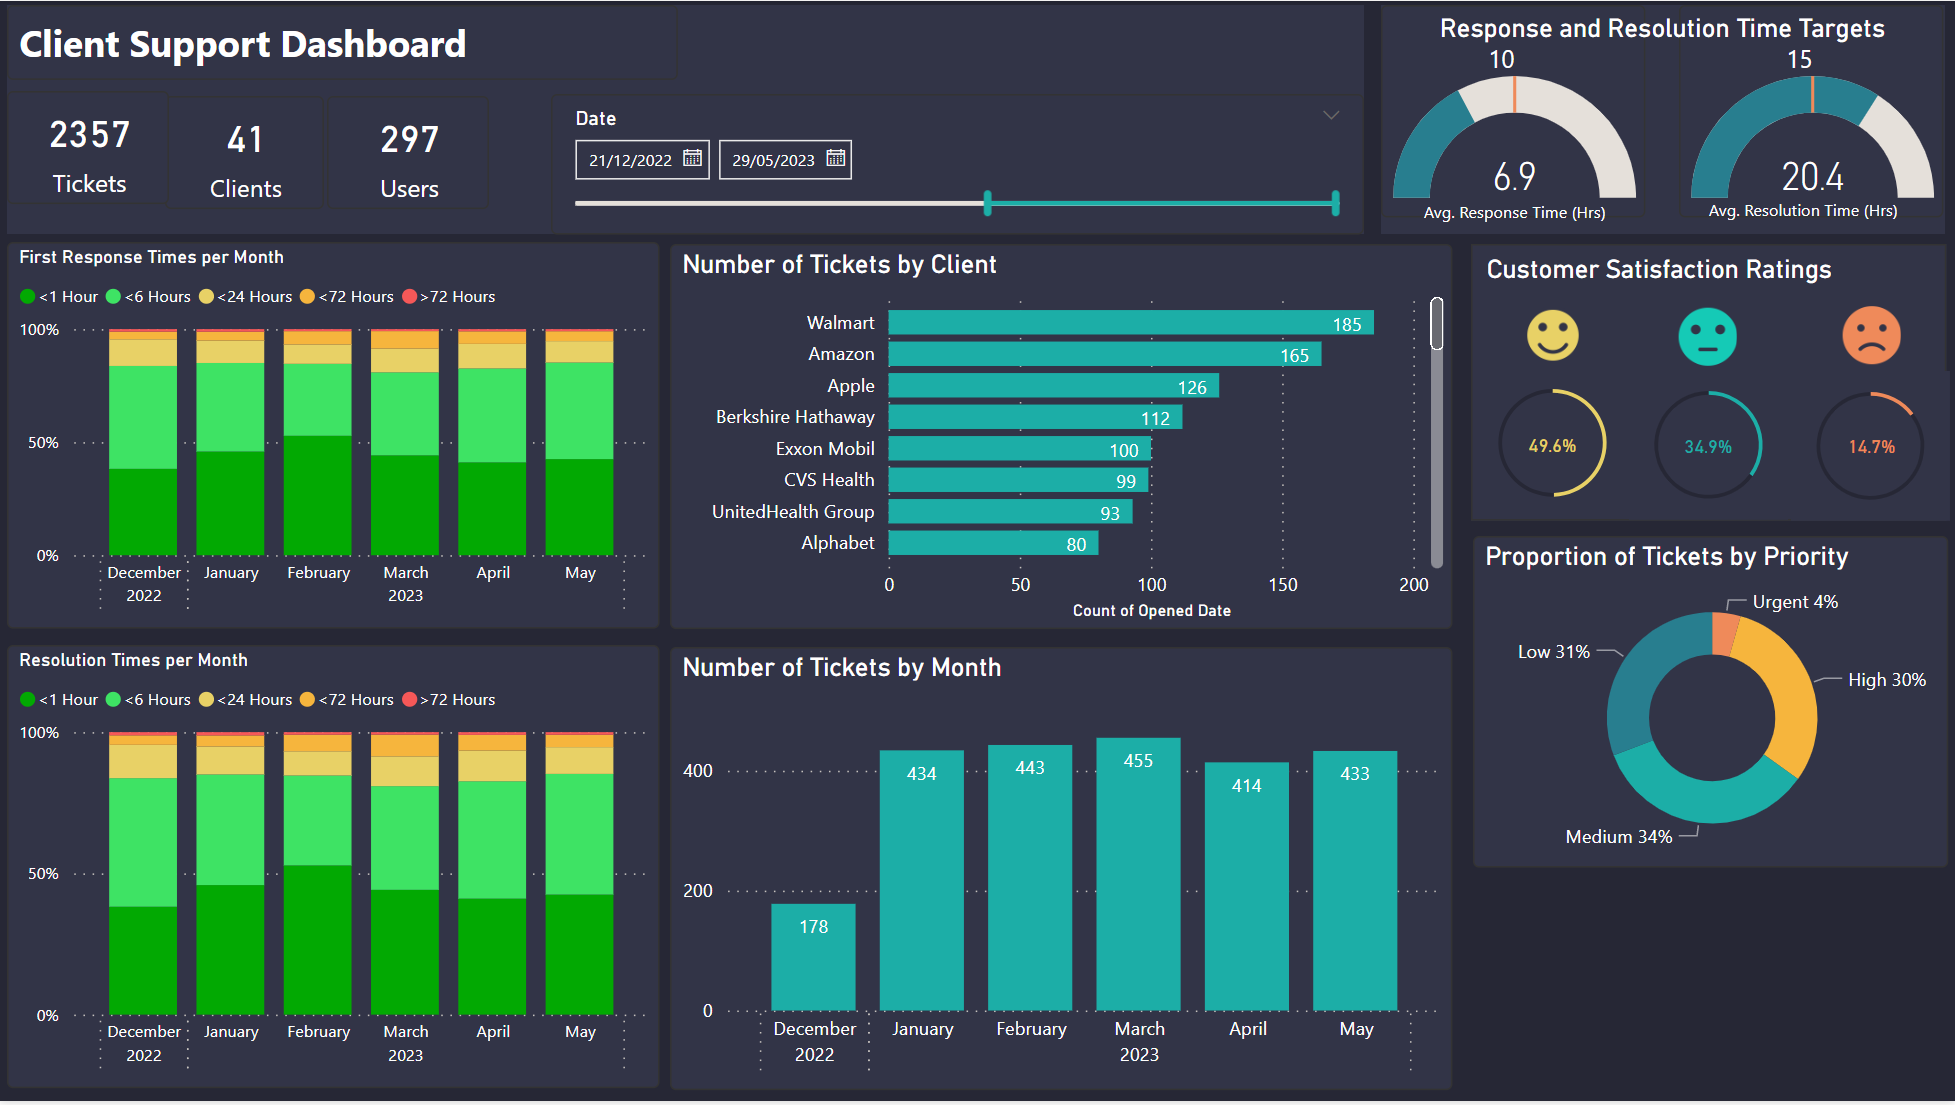

The dashboard page shown, as its layout file describes it:
{"tool":"powerbi","page":{"name":"Support Dashboard","canvas":[1280,720],"ordinal":0},"visuals":[{"type":"gauge","fields":{"Y":["Avg(03_tickets.First Response Time (Hours))"]},"box":[904.3,2.7,172.7,138.6],"z":0,"group":"g2"},{"type":"clusteredBarChart","title":"Number of Tickets by Client","fields":{"Y":["CountNonNull(03_tickets.Opened Date)"],"Category":["02_Users.Company"]},"box":[439.1,159.2,511.8,252.5],"z":0},{"type":"shape","box":[963.3,159.2,310.5,181.4],"z":1000,"group":"g1"},{"type":"donutChart","title":"Proportion of Tickets by Priority","fields":{"Category":["03_tickets.Priority"],"Y":["CountNonNull(03_tickets.Priority)"]},"box":[964.7,349.9,311.5,216.8],"z":1000},{"type":"group","id":"g1","title":"Group 2","box":[963.3,159.2,312.8,181.4],"z":2000},{"type":"gauge","fields":{"Y":["Avg(03_tickets.Resolution Time (Hours))"]},"box":[1099.1,2.7,172.7,138.6],"z":3000,"group":"g2"},{"type":"card","fields":{"Values":["Count(03_tickets.User ID)"]},"box":[214.9,62.1,105.7,74.1],"z":3000,"group":"g3"},{"type":"hundredPercentStackedColumnChart","title":"First Response Times per Month","fields":{"Y":["CountNonNull(03_tickets.First Response Category)"],"Category":["03_tickets.Opened Date.Variation.Date Hierarchy.Year","03_tickets.Opened Date.Variation.Date Hierarchy.Month"],"Series":["03_tickets.First Response Category"]},"box":[5.5,157.8,426.8,253],"z":3000},{"type":"hundredPercentStackedColumnChart","title":"Resolution Times per Month","fields":{"Category":["03_tickets.Opened Date.Variation.Date Hierarchy.Year","03_tickets.Opened Date.Variation.Date Hierarchy.Month"],"Series":["03_tickets.First Response Category"],"Y":["CountNonNull(03_tickets.Resolution Category)"]},"box":[5.5,421.3,426.8,289.5],"z":4000},{"type":"donutChart","fields":{"Y":["03_tickets.Happiness Percentages","03_tickets.OneMinusHappiness"]},"box":[964.7,240.6,103.5,98.1],"z":5000,"group":"g1"},{"type":"clusteredColumnChart","title":"Number of Tickets by Month","fields":{"Y":["CountNonNull(03_tickets.Opened Date)"],"Category":["03_tickets.Opened Date.Variation.Date Hierarchy.Year","03_tickets.Opened Date.Variation.Date Hierarchy.Month"]},"box":[439.1,422.6,511.8,289.5],"z":5000},{"type":"group","id":"g2","title":"Group 1","box":[904.3,2.7,369.1,149.6],"z":6000},{"type":"group","id":"g3","title":"Group 3","box":[5.5,2.7,887.8,149.6],"z":7000},{"type":"textbox","box":[904.3,2.7,368.3,35.7],"z":8000,"group":"g2"},{"type":"slicer","fields":{"Values":["03_tickets.Opened Date"]},"box":[361.4,60.6,532,91.6],"z":8000,"group":"g3"},{"type":"donutChart","fields":{"Y":["03_tickets.Neutral Percentages","03_tickets.OneMinusNeutral"]},"box":[1067,241.4,103.5,98.1],"z":9000,"group":"g1"},{"type":"card","fields":{"Values":["Count(02_Users.Company)"]},"box":[109.2,62.1,104.4,74.1],"z":10000,"group":"g3"},{"type":"donutChart","fields":{"Y":["03_tickets.Unhappy Percentages","03_tickets.OneMinusUnhappy"]},"box":[1172.4,242.2,103.7,97.8],"z":10000,"group":"g1"},{"type":"textbox","box":[5.5,2.7,439.3,48.5],"z":11000,"group":"g3"},{"type":"card","fields":{"Values":["CountNonNull(03_tickets.Opened Date)"]},"box":[5.5,59.3,105.6,74.1],"z":12000,"group":"g3"},{"type":"card","fields":{"Values":["03_tickets.Unhappy Percentages"]},"box":[1203.5,278.6,44,24.5],"z":12000,"group":"g1"},{"type":"card","fields":{"Values":["03_tickets.Neutral Percentages"]},"box":[1096.8,278.6,43.9,24.4],"z":14000,"group":"g1"},{"type":"textbox","box":[968.4,160.3,255.2,35.7],"z":15000,"group":"g1"},{"type":"image","box":[993,193.9,47.6,50.2],"z":16000,"group":"g1"},{"type":"image","box":[1094.2,193.9,47.6,51.6],"z":17000,"group":"g1"},{"type":"image","box":[1201.7,193.7,47.7,50.5],"z":18000,"group":"g1"},{"type":"card","fields":{"Values":["03_tickets.Happiness Percentages"]},"box":[994.6,277.8,43.9,24.4],"z":19000,"group":"g1"},{"type":"textbox","box":[927.3,123,156.6,29.4],"z":19500,"group":"g2"},{"type":"textbox","box":[1113.7,121.6,152.3,30.9],"z":20000,"group":"g2"}]}

Visuals, with their boxes in screenshot pixels (x1, y1, x2, y2), scaled from the page's 1280x720 canvas onto the 1955x1105 screenshot:
gauge - Avg(03_tickets.First Response Time (Hours)): rect(1381, 4, 1645, 217)
"Number of Tickets by Client" clusteredBarChart: rect(671, 244, 1452, 632)
shape: rect(1471, 244, 1946, 523)
"Proportion of Tickets by Priority" donutChart: rect(1473, 537, 1949, 870)
"Group 2" group: rect(1471, 244, 1949, 523)
gauge - Avg(03_tickets.Resolution Time (Hours)): rect(1679, 4, 1942, 217)
card - Count(03_tickets.User ID): rect(328, 95, 490, 209)
"First Response Times per Month" hundredPercentStackedColumnChart: rect(8, 242, 660, 630)
"Resolution Times per Month" hundredPercentStackedColumnChart: rect(8, 647, 660, 1091)
donutChart - 03_tickets.Happiness Percentages x 03_tickets.OneMinusHappiness: rect(1473, 369, 1632, 520)
"Number of Tickets by Month" clusteredColumnChart: rect(671, 649, 1452, 1093)
"Group 1" group: rect(1381, 4, 1945, 234)
"Group 3" group: rect(8, 4, 1364, 234)
textbox: rect(1381, 4, 1944, 59)
slicer - 03_tickets.Opened Date: rect(552, 93, 1365, 234)
donutChart - 03_tickets.Neutral Percentages x 03_tickets.OneMinusNeutral: rect(1630, 370, 1788, 521)
card - Count(02_Users.Company): rect(167, 95, 326, 209)
donutChart - 03_tickets.Unhappy Percentages x 03_tickets.OneMinusUnhappy: rect(1791, 372, 1949, 522)
textbox: rect(8, 4, 679, 79)
card - CountNonNull(03_tickets.Opened Date): rect(8, 91, 170, 205)
card - 03_tickets.Unhappy Percentages: rect(1838, 428, 1905, 465)
card - 03_tickets.Neutral Percentages: rect(1675, 428, 1742, 465)
textbox: rect(1479, 246, 1869, 301)
image: rect(1517, 298, 1589, 375)
image: rect(1671, 298, 1744, 377)
image: rect(1835, 297, 1908, 375)
card - 03_tickets.Happiness Percentages: rect(1519, 426, 1586, 464)
textbox: rect(1416, 189, 1655, 234)
textbox: rect(1701, 187, 1934, 234)
